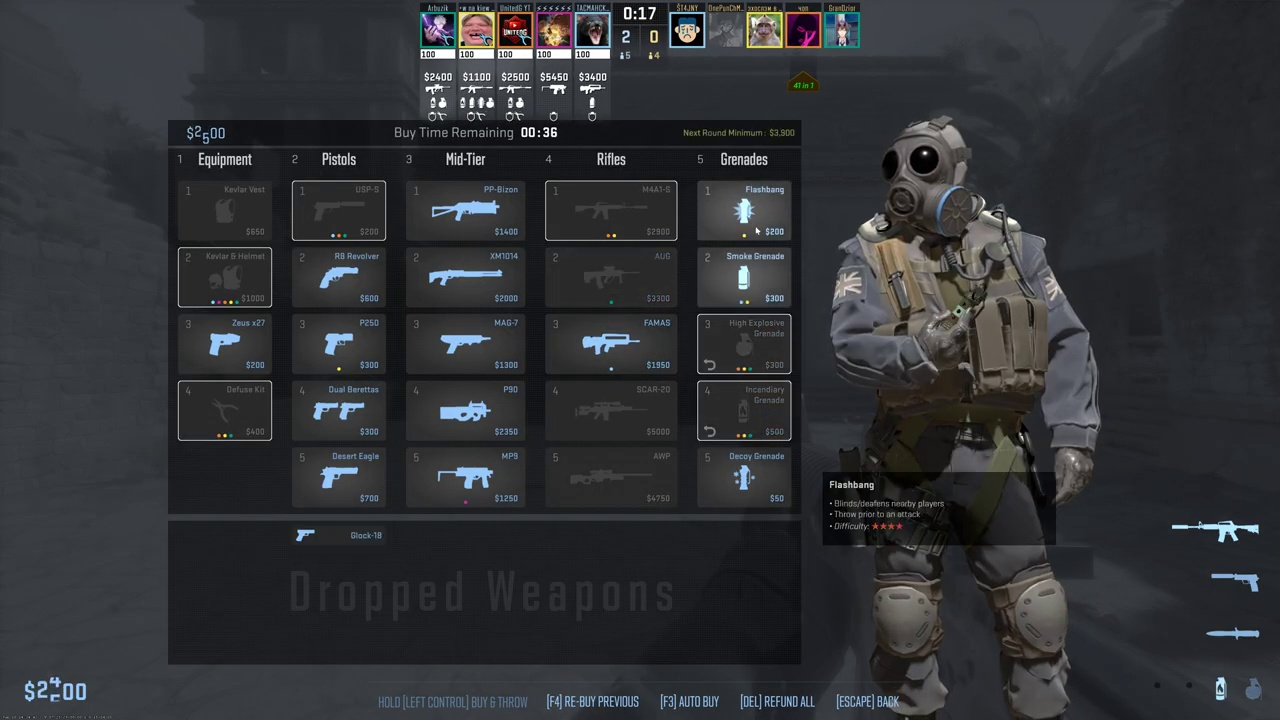CT: (852, 122, 1070, 720)
